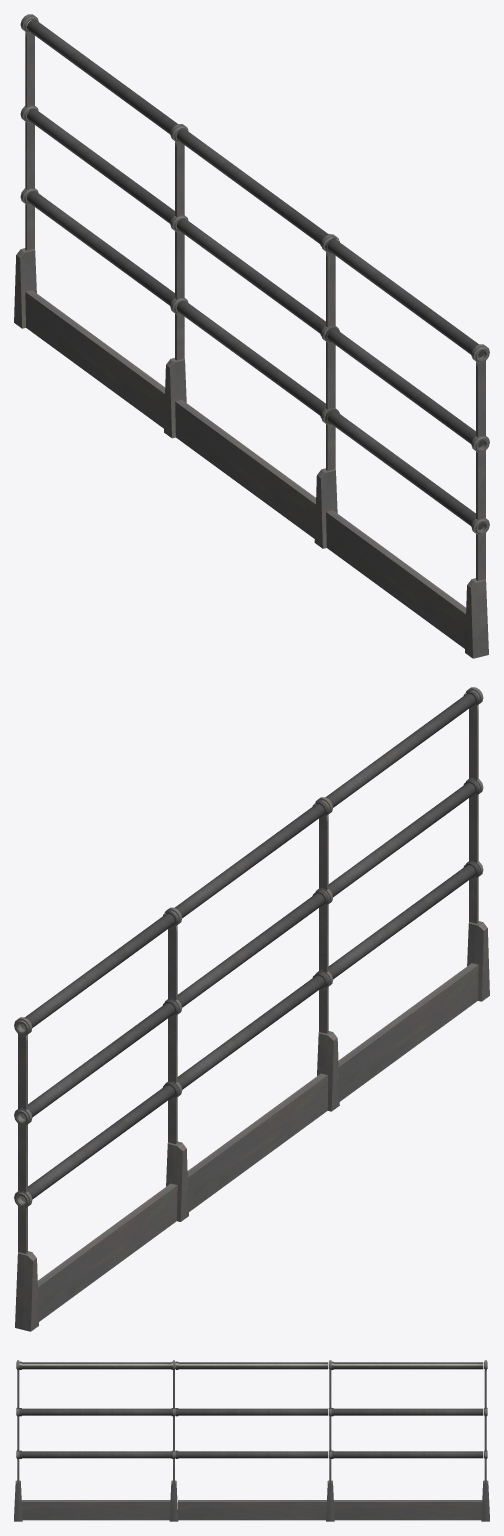
File: Railing.fbx
3 renders of one model, top to bottom at view 1: azimuth 30°, elevation 25°; view 2: azimuth 150°, elevation 25°; view 3: azimuth 270°, elevation 25°, orthographic. The views are drawn at different scales.
Parts seen in each view (by area): view 1: Railing; view 2: Railing; view 3: Railing.
Boxes of the visible parts, x1=… form: Railing: x1=14, y1=14, x2=489, y2=658; Railing: x1=14, y1=687, x2=489, y2=1331; Railing: x1=14, y1=1360, x2=489, y2=1521.
Size of the model in its own units: 0.1494 by 2.21 by 5.98.
